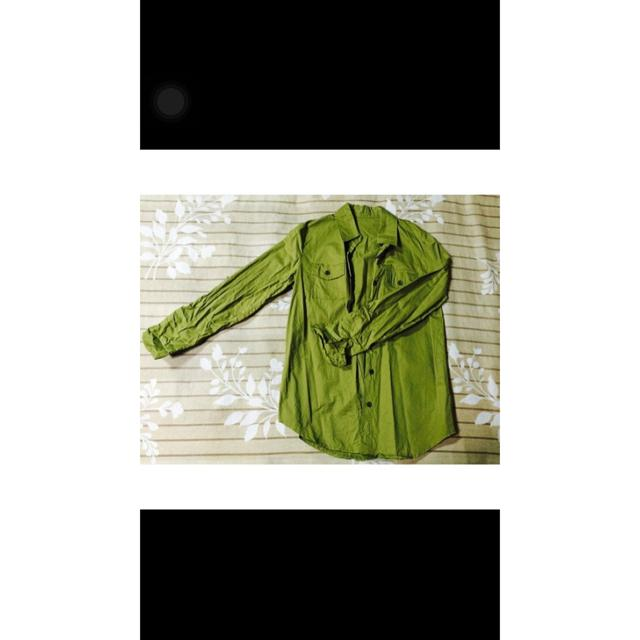Tops: (150, 206, 459, 456)
